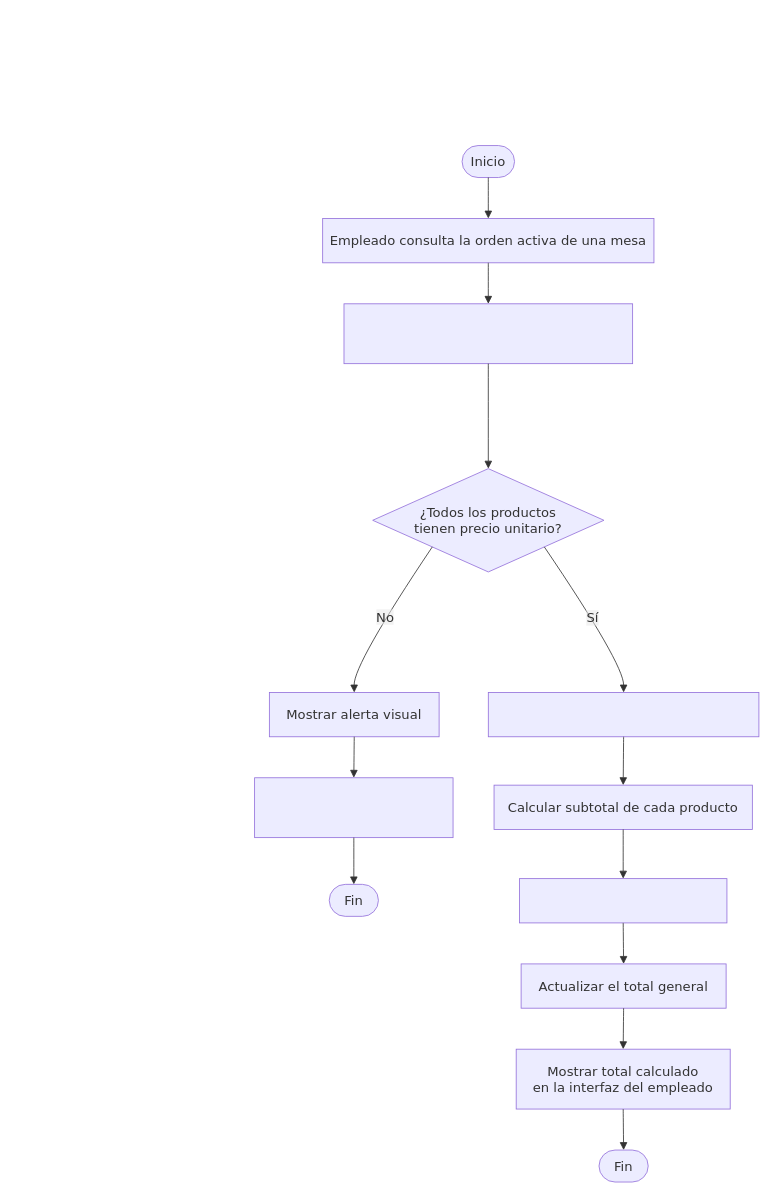
This 773x1196 diagram has some shape labels left out. The centre of each missing label's shape, as x and y in pixels:
Multiplicar cantidad × precio unitario: the point at 623,714
Sistema recupera productos, precios y cantidades de la base de datos: the point at 488,333
Solicitar al administrador verificar el catálogo: the point at 353,807
Sumar todos los subtotales: the point at 623,900
